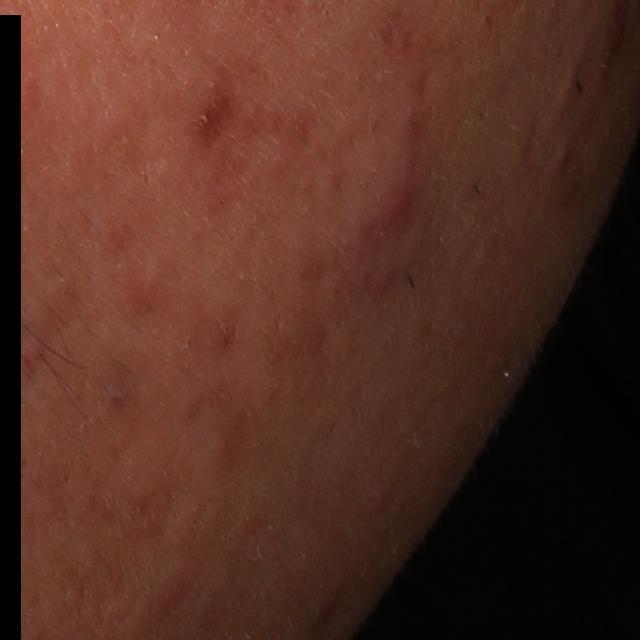papule: (359, 157, 426, 243)
